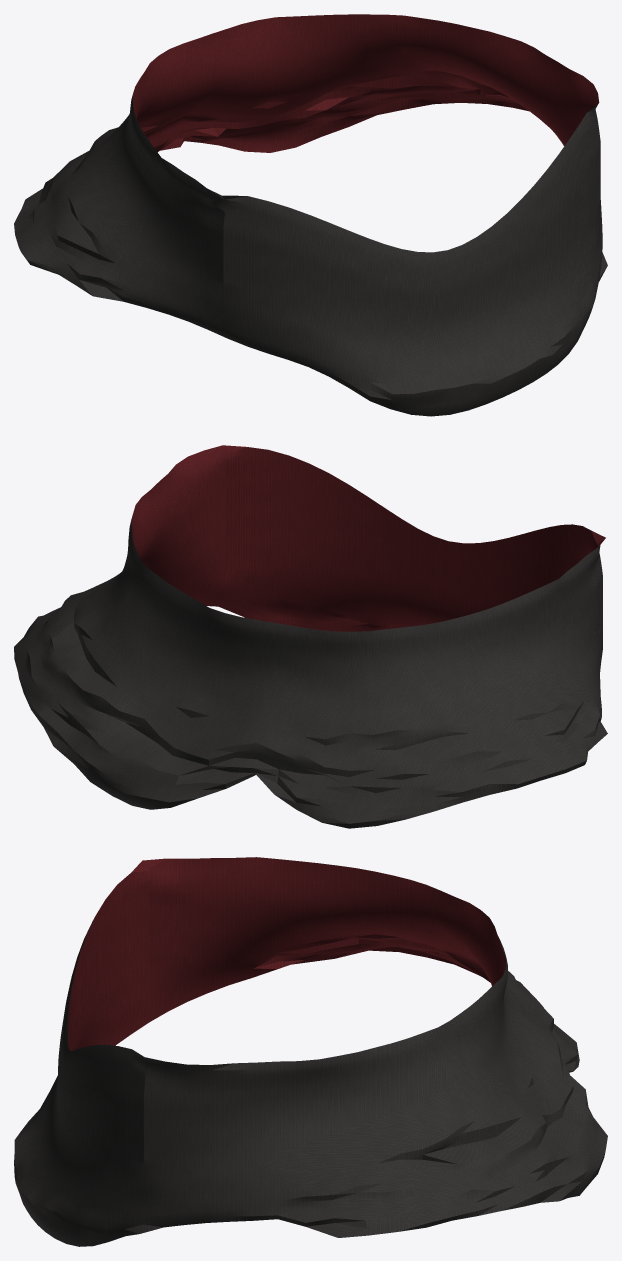
File: cowl-neck-v1.glb
3 views of the same model, one above another, from view 1: azimuth 30°, elevation 25°; view 2: azimuth 150°, elevation 25°; view 3: azimuth 270°, elevation 25° (orthographic). The views are drawn at different scales.
Visible parts, largest first — view 1: neck; view 2: neck; view 3: neck.
Boxes of the visible parts, x1,y1,x2,y2 form: neck: (14,14,607,416); neck: (14,445,607,828); neck: (14,857,607,1246).
Size of the model in its own units: 0.2704 by 0.1023 by 0.2342.
1 material, 1 textured.
